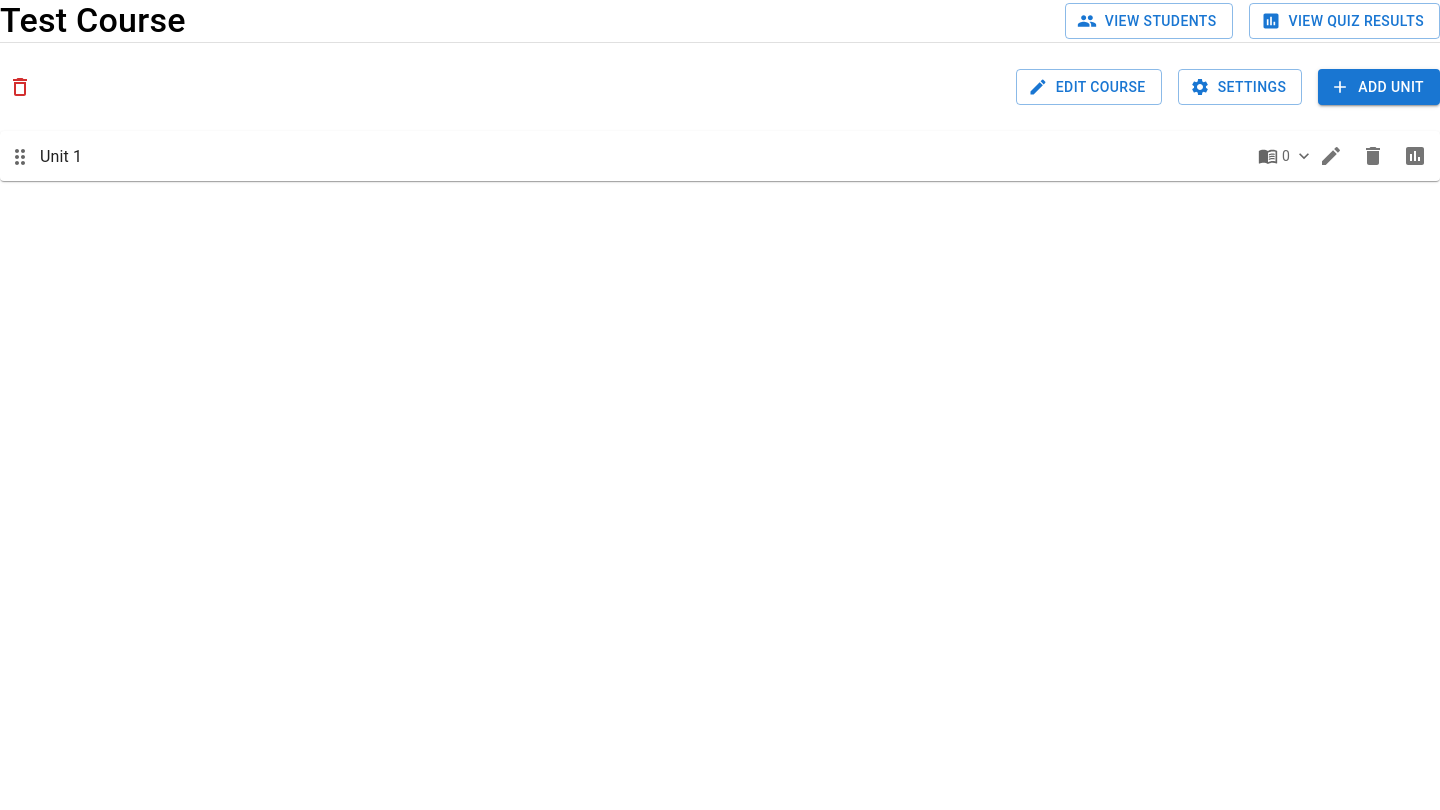
Test: CourseEditor › Adding units › opens add unit dialog when clicking Add Unit button
Click the button "Add Unit" at (1379, 87), box x1=1318 y1=69 x2=1439 y2=105
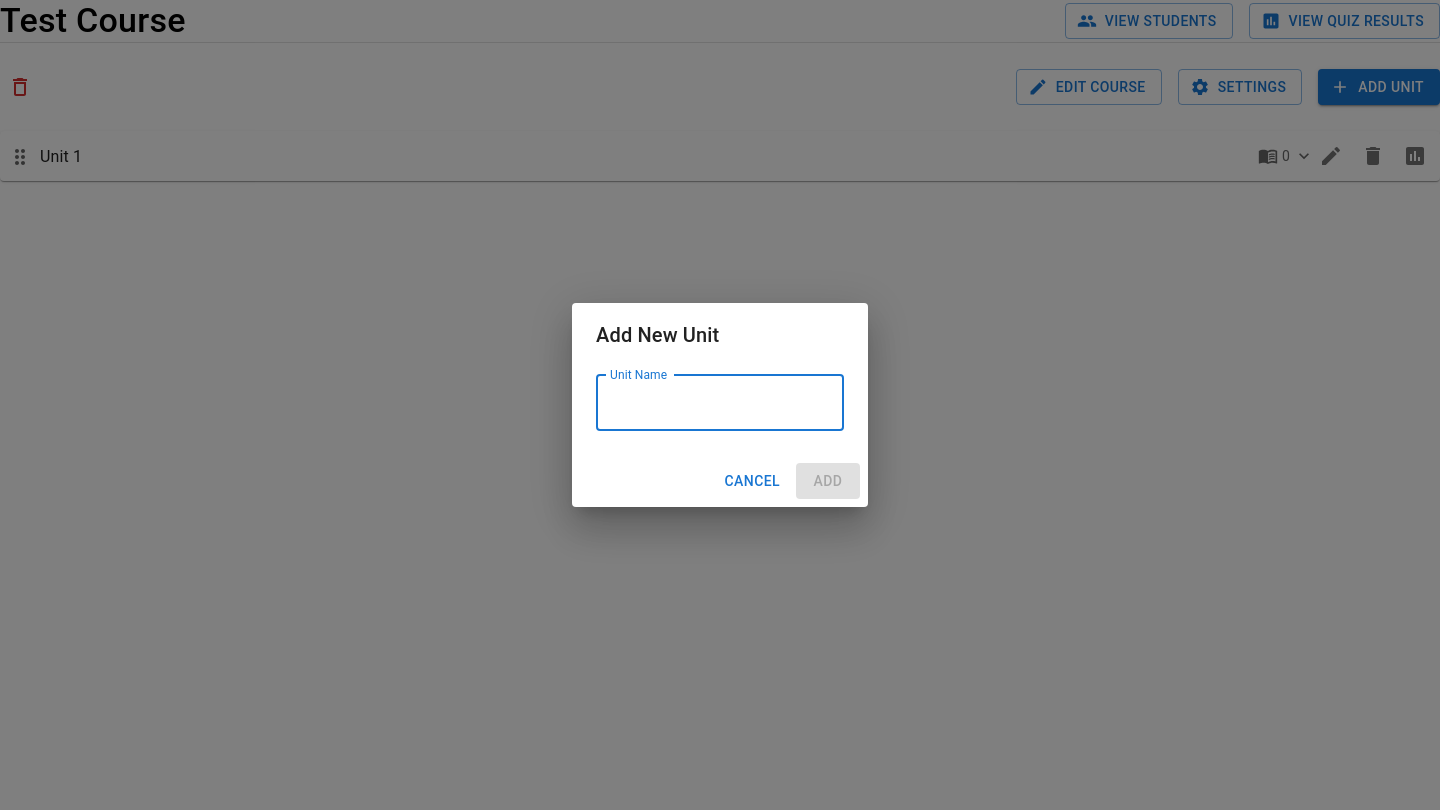
Result: the heading "Add New Unit" is shown at x1=596 y1=323 x2=719 y2=347
